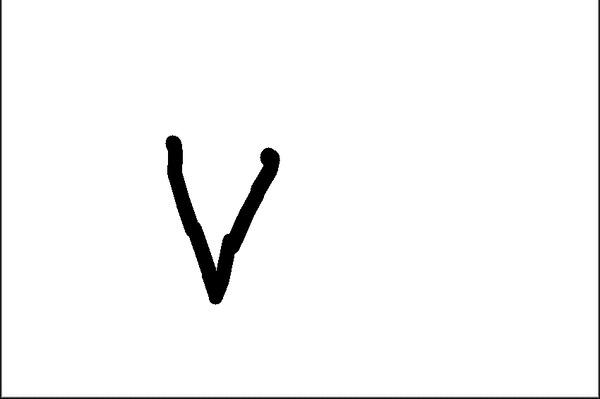V: (158, 125, 289, 318)
